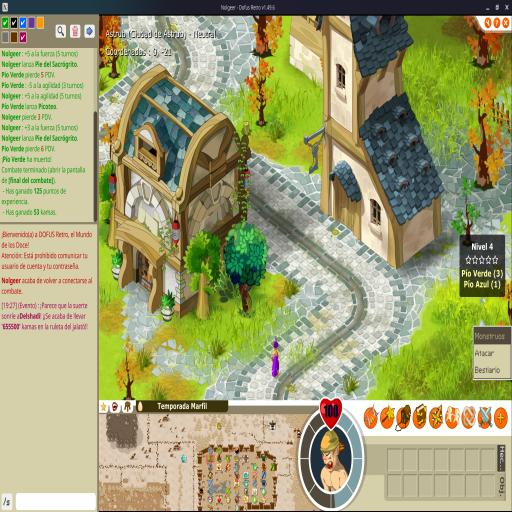Enemigos: (478, 318, 486, 326), (479, 297, 486, 306)
Personaje: (268, 336, 282, 384)
